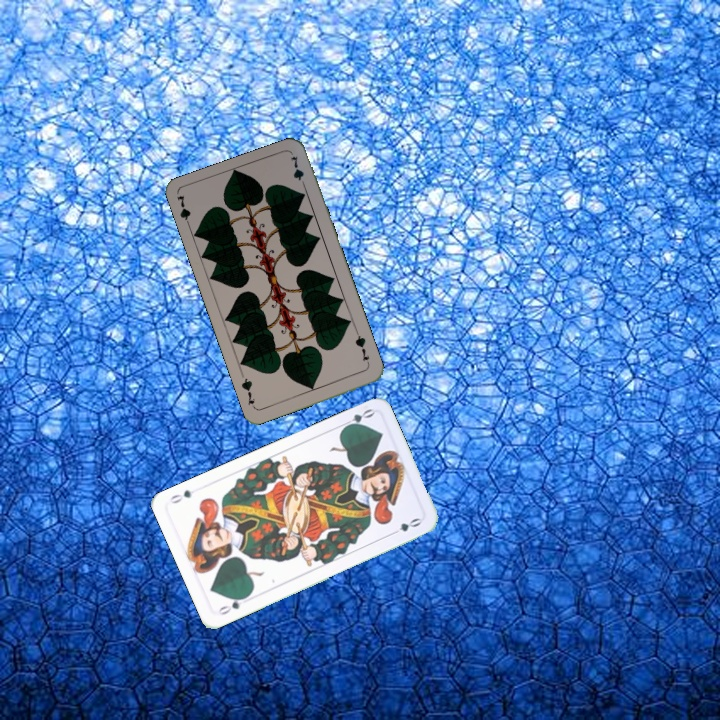G7: (173, 191, 193, 232), (351, 329, 372, 364)
GO: (337, 404, 376, 432), (214, 592, 251, 618)
